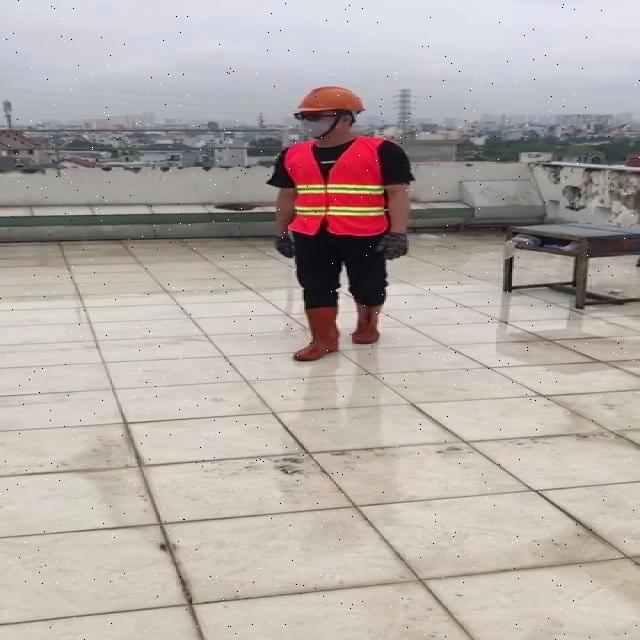Hard_hat: (290, 82, 372, 121)
Vest: (288, 136, 392, 241)
